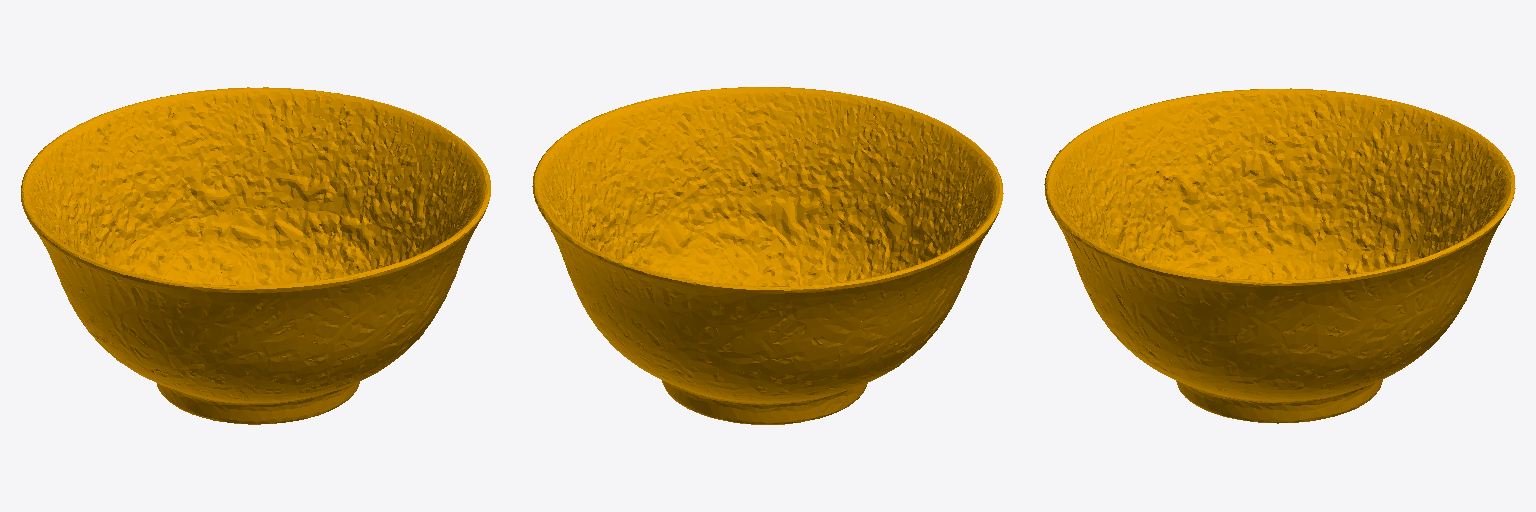
The robot description file, URDF, robot "akita_black_bowl":
<?xml version="1.0"?>
<!-- GENERATED by tasks/libero/build_env/build_object_urdf.py. Do not hand edit.

     LIBERO object `akita_black_bowl`, spawnable by the TRO-MP env.
     Role: graspable target object (envs/), one of the 22 LIBERO target assets.

     WHY a URDF when envs/akita_black_bowl/ may also hold a USD: this env spawns objects
     only through `assets.object_urdf` (scene_utils.py:1929, which calls
     _convert_urdf_to_usd at :1964). The assets dataclass declares no USD field,
     so a ready-made USD cannot be handed to this code path.

     Mesh coordinates are PRESERVED, not re-centred: 11 of 22 LIBERO envs have
     their mesh origin at the object's base, and `goal_traj` tracks that origin.
     Re-centring would offset the object from its own trajectory every frame.

     Mass: density 800.0 kg/m^3 x mesh volume 5.285022e-05 m^3
     Inertia: solid-box approximation about the COM at that mass, NOT the true
     mesh inertia tensor. Adequate for a graspable tabletop object; revisit if
     spin dynamics matter.

     Collision: the full mesh, decomposed by Isaac's URDF importer. The convex
     decomposition authored in the DexVerse USD is NOT reproduced here.
-->
<robot name="akita_black_bowl">
  <link name="akita_black_bowl">
    <inertial>
      <origin xyz="0.000052 -0.000687 0.025619" rpy="0 0 0"/>
      <mass value="0.042280"/>
      <inertia ixx="5.338158e-05" ixy="0" ixz="0" iyy="5.378864e-05" iyz="0" izz="8.763677e-05"/>
    </inertial>
    <visual>
      <origin xyz="0 0 0" rpy="0 0 0"/>
      <geometry><mesh filename="akita_black_bowl.obj" scale="1 1 1"/></geometry>
    </visual>
    <collision>
      <origin xyz="0 0 0" rpy="0 0 0"/>
      <geometry><mesh filename="akita_black_bowl.obj" scale="1 1 1"/></geometry>
    </collision>
  </link>
</robot>

--- What the picture shows (computed from the rendered views, not written in the file) ---
The picture shows the robot from 3 angles, left to right: view 1: azimuth 30°, elevation 25°; view 2: azimuth 150°, elevation 25°; view 3: azimuth 270°, elevation 25°; orthographic projection.
Model akita_black_bowl with 1 links and 0 joints (none), rooted at akita_black_bowl, posed every joint at zero.
Visible links, largest first — view 1: akita_black_bowl; view 2: akita_black_bowl; view 3: akita_black_bowl.
Boxes of the visible links, left/top/right/bottom form: akita_black_bowl: left=21, top=87, right=490, bottom=424; akita_black_bowl: left=532, top=87, right=1003, bottom=424; akita_black_bowl: left=1044, top=88, right=1515, bottom=423.
Bounding box of the posed robot: 0.1118 × 0.1113 × 0.0527 m (x, y, z).
Meshes: 1 distinct files referenced, 1 mesh visuals loaded (1 OBJ).
